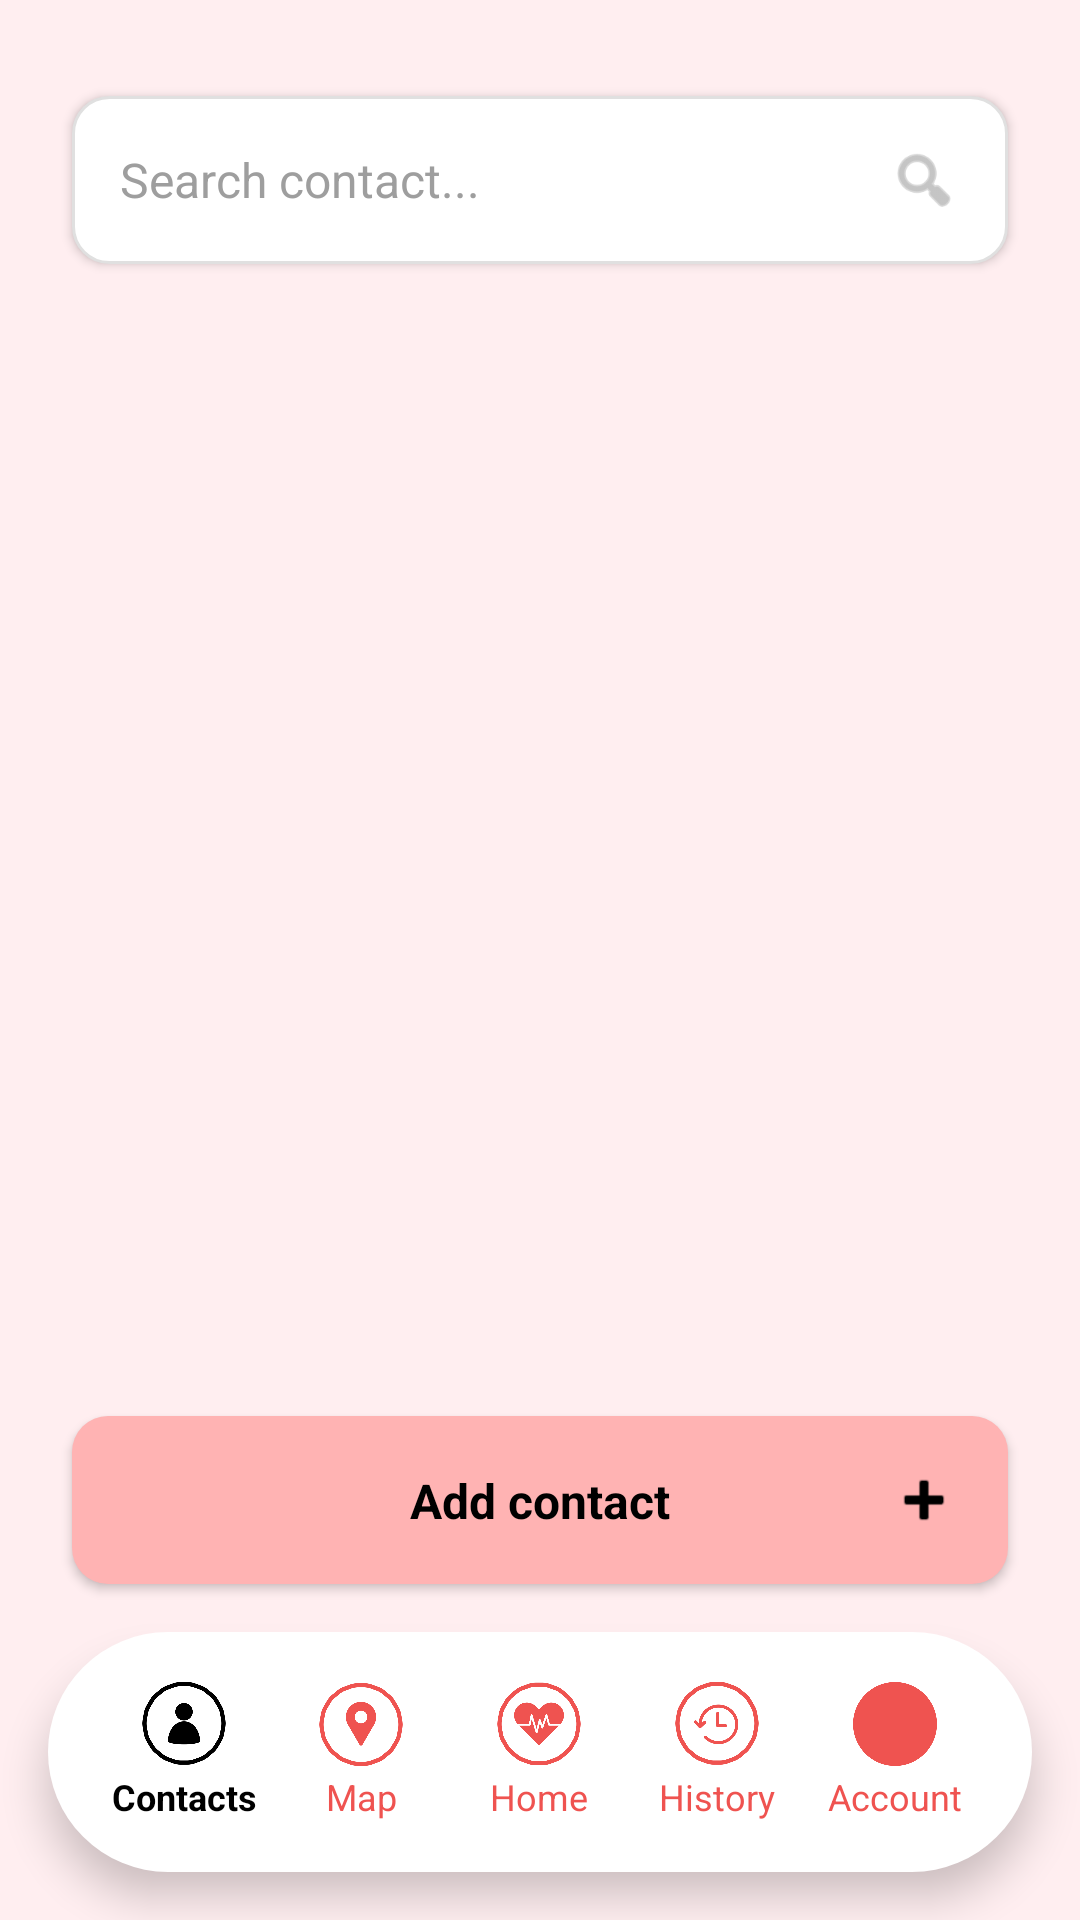

Icons on this 1080w x 1920h Android screen, each with its box as (x1, y1, x2, y2):
add: (903, 1480, 945, 1520)
location: (319, 1683, 403, 1766)
